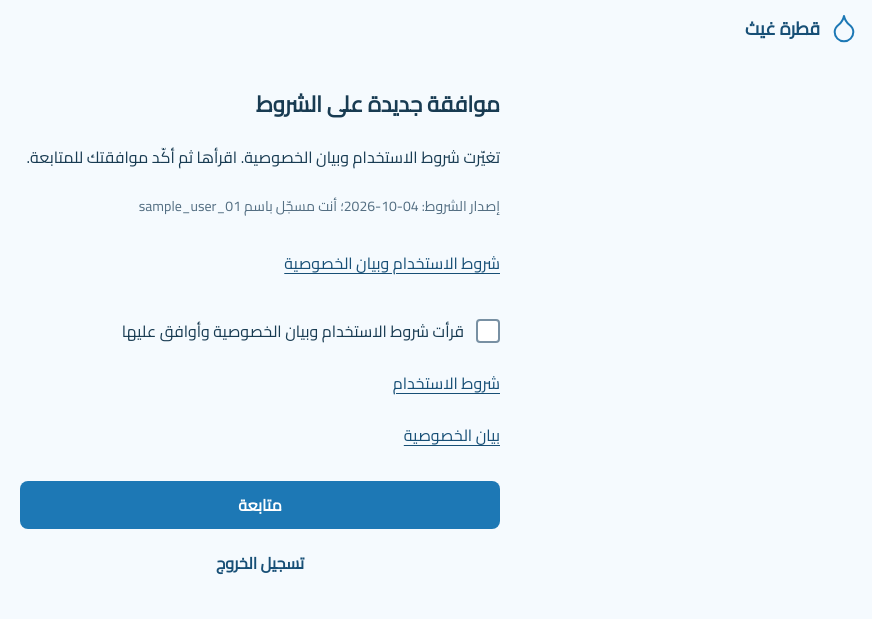
Scenario: S-06 validation (G-18) › Continue with the box unchecked: nothing is sent, the error is at the box, linked by description, focus goes to the box, no alert, no summary
What coordinates should you click on to do the following:
click the button "متابعة"
I would click on:
 (260, 505)
Its box is [20,481,500,529].
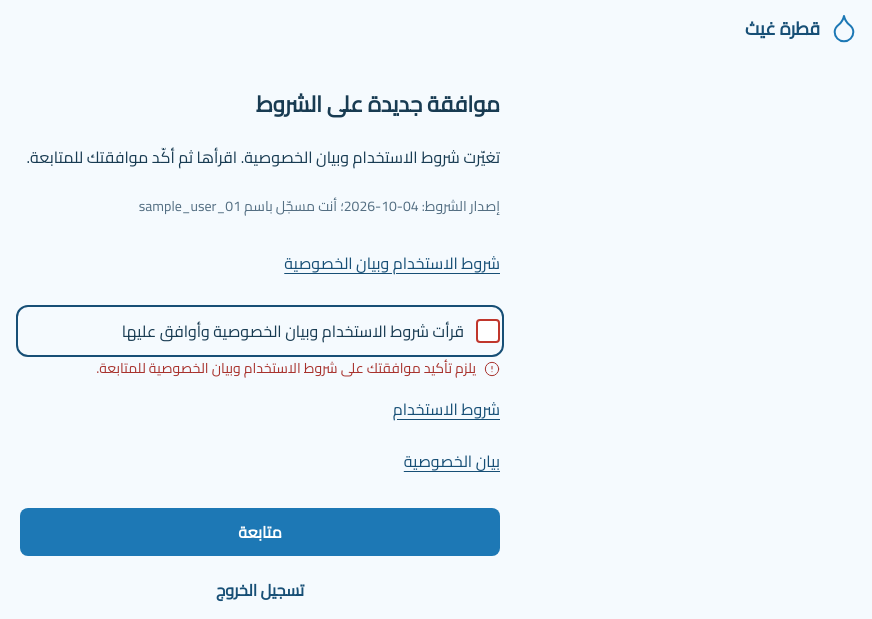
What coordinates should you click on to do the following:
click the checkbox labelled "قرأت شروط الاستخدام وبيان الخصوصية وأوافق عليها"
I would click on:
 (311, 331)
Its box is [122,316,500,346].
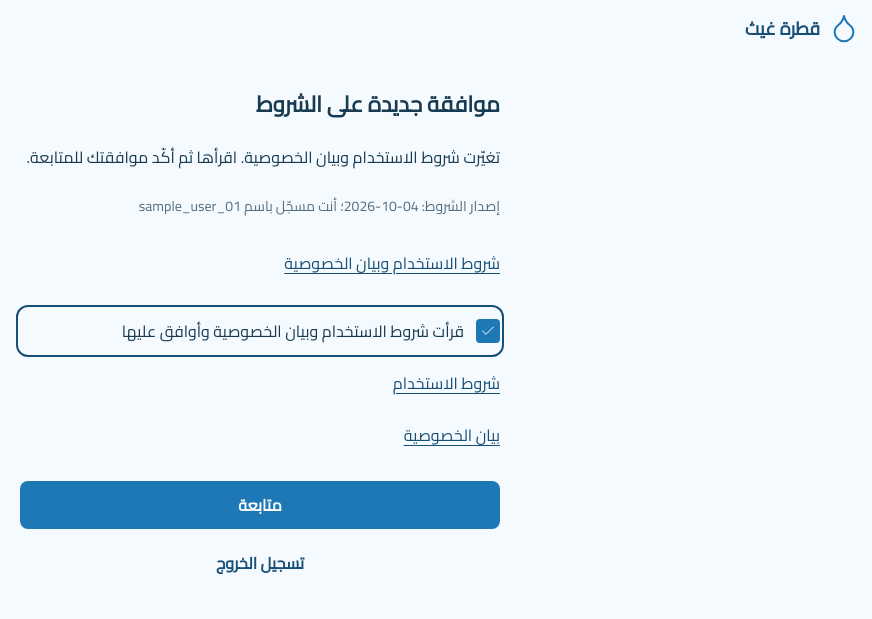
Expected: the text "يلزم تأكيد موافقتك على شروط الاستخدام وبيان الخصوصية للمتابعة." is gone
